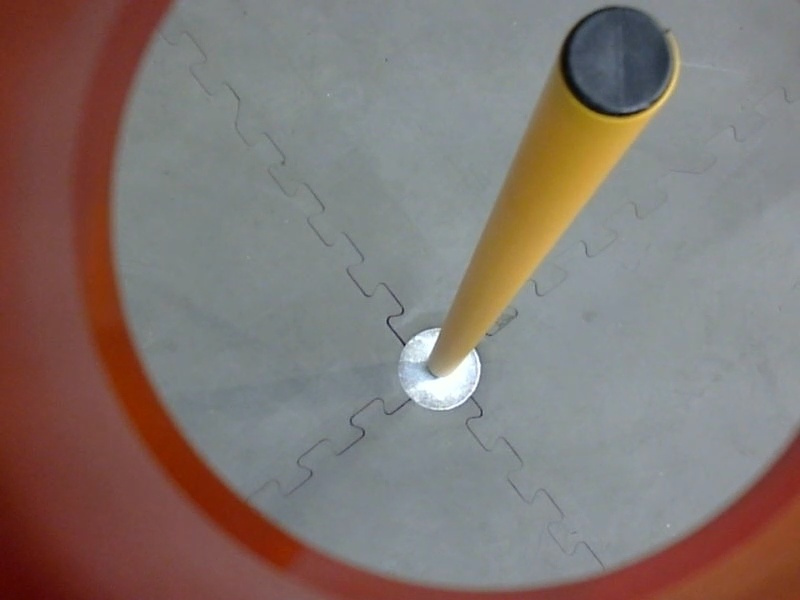tip: (553, 3, 685, 130)
